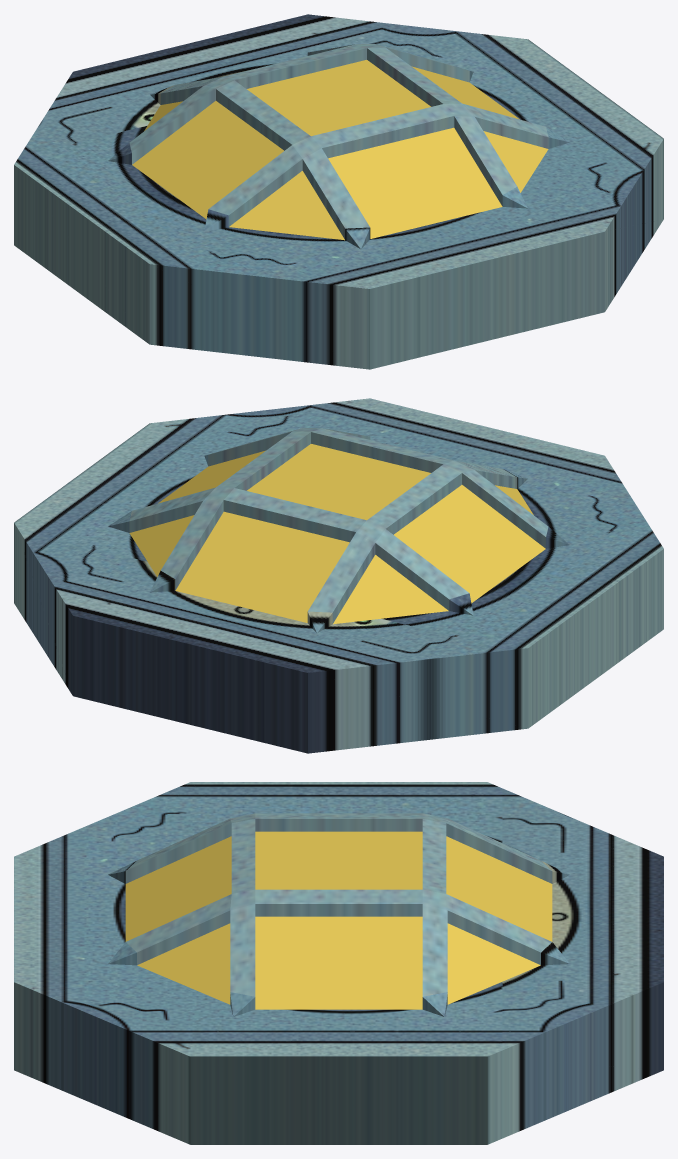
Rendered from Lamp.fbx.
3 renders of one model, top to bottom at view 1: azimuth 30°, elevation 25°; view 2: azimuth 150°, elevation 25°; view 3: azimuth 270°, elevation 25°, orthographic. The views are drawn at different scales.
Parts seen in each view (by area): view 1: Cube.001; view 2: Cube.001; view 3: Cube.001.
Boxes of the visible parts, <box> form: Cube.001: <box>14,14,663,369</box>; Cube.001: <box>14,398,663,753</box>; Cube.001: <box>14,782,663,1144</box>.
Size of the model in its own units: 132 by 132 by 34.43.
Materials: 2 (1 with a texture image).
